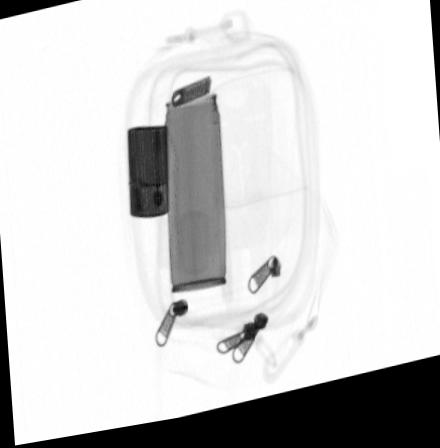Lighter: (126, 129, 169, 224)
